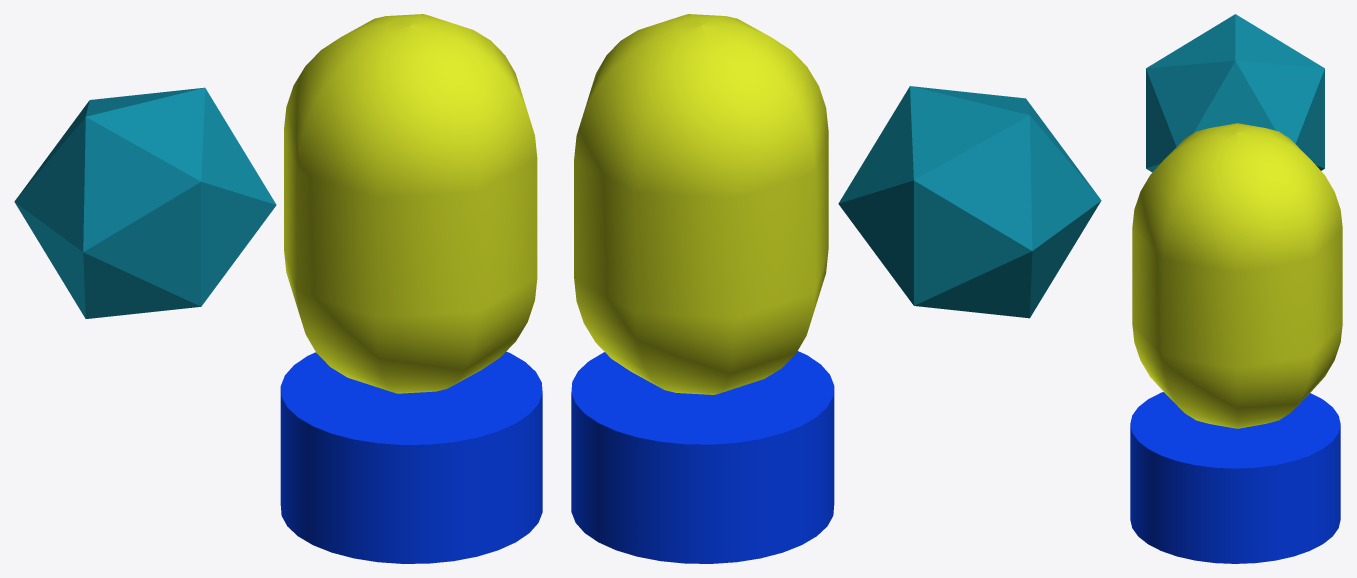
3 renders of one model, left to right at view 1: azimuth 30°, elevation 25°; view 2: azimuth 150°, elevation 25°; view 3: azimuth 270°, elevation 25°, orthographic. The views are drawn at different scales.
Parts seen in each view (by area): view 1: Capsule, Cylinder, Icosahedron; view 2: Capsule, Cylinder, Icosahedron; view 3: Capsule, Cylinder, Icosahedron.
Part boxes in pixels (left/top/right/bottom): Capsule: left=284, top=14, right=537, bottom=393; Cylinder: left=280, top=351, right=542, bottom=563; Icosahedron: left=14, top=87, right=276, bottom=318; Capsule: left=574, top=14, right=828, bottom=394; Cylinder: left=571, top=351, right=834, bottom=563; Icosahedron: left=838, top=86, right=1101, bottom=318; Capsule: left=1132, top=123, right=1342, bottom=428; Cylinder: left=1130, top=392, right=1340, bottom=563; Icosahedron: left=1146, top=14, right=1324, bottom=172.
Size of the model in its own units: 4.19 by 4.05 by 2.02.
